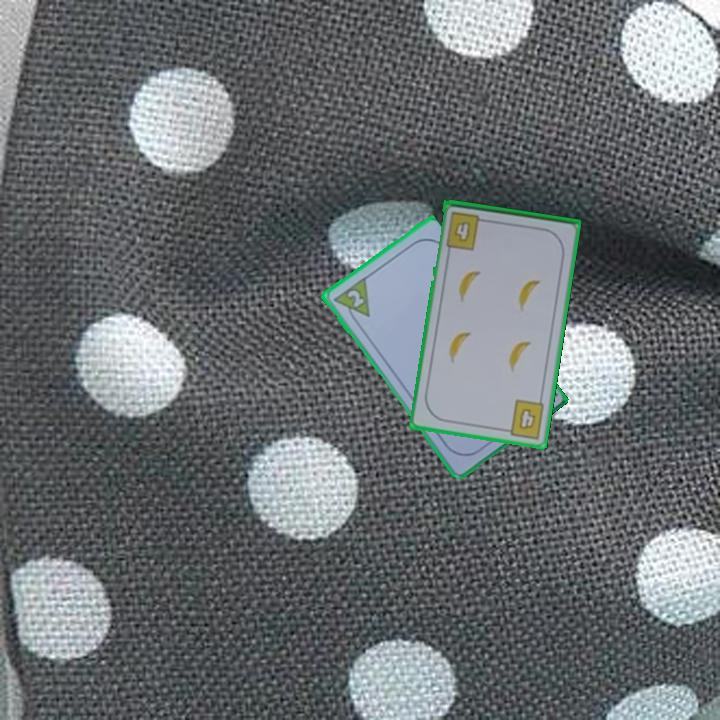2p: (343, 286, 367, 310)
4b: (499, 396, 547, 442), (451, 220, 472, 245)
